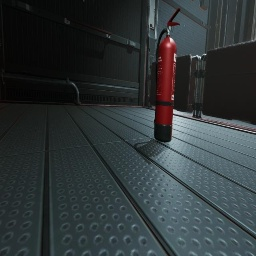FireExtinguisher ]: (154, 8, 180, 142)
